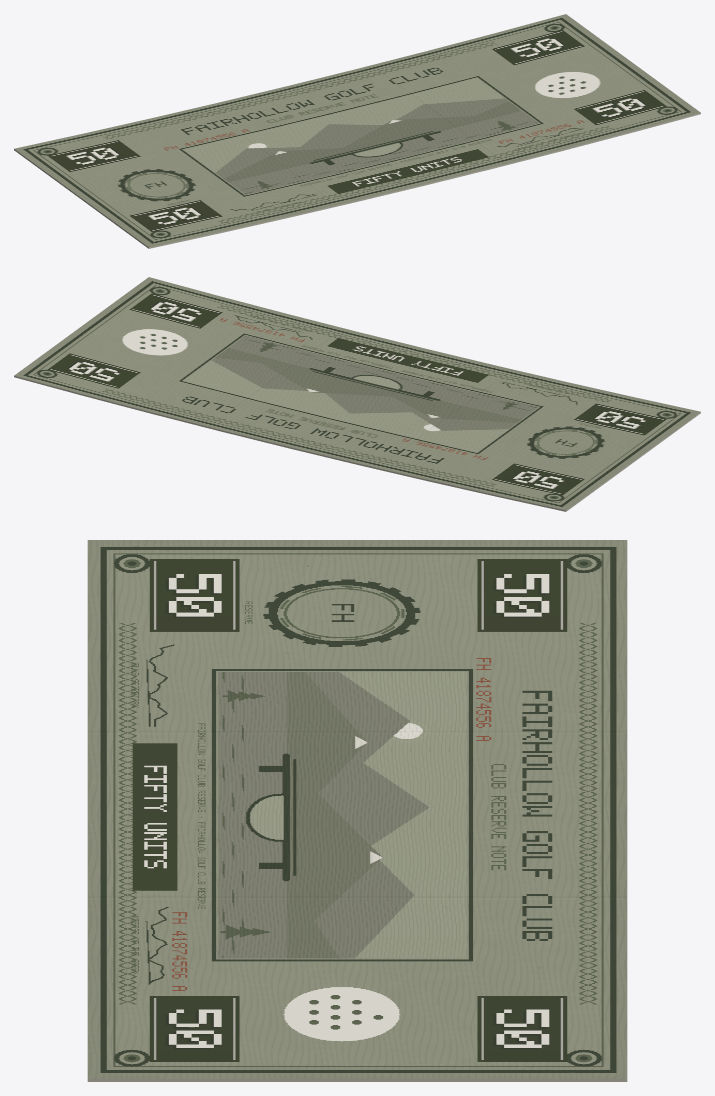
The model's file is cash_bill_50.glb.
3 views of the same model, one above another, from view 1: azimuth 30°, elevation 25°; view 2: azimuth 150°, elevation 25°; view 3: azimuth 270°, elevation 25° (orthographic). The views are drawn at different scales.
Parts seen in each view (by area): view 1: Bill_Body; view 2: Bill_Body; view 3: Bill_Body.
Boxes of the visible parts, x1,y1,x2,y2 form: Bill_Body: [14, 14, 700, 248]; Bill_Body: [14, 277, 700, 511]; Bill_Body: [87, 540, 627, 1081].
Bounding box in the file's own units: 0.156 × 0.0015 × 0.066.
Materials: 1 (1 with a texture image).
